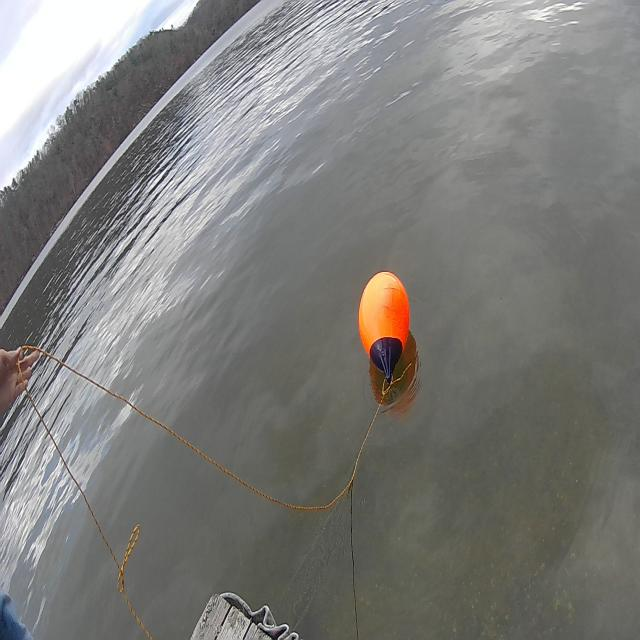Buoy: (356, 268, 412, 360)
